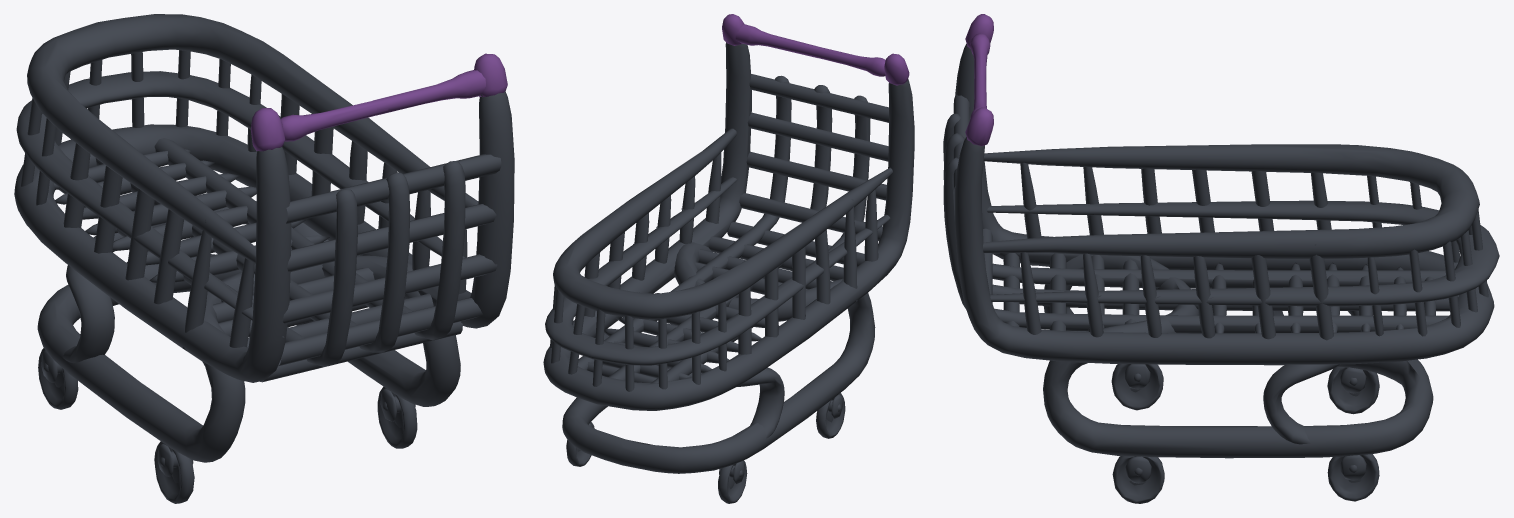
File: Shopping Cart.fbx
The picture shows the model from 3 angles, left to right: view 1: azimuth 30°, elevation 25°; view 2: azimuth 150°, elevation 25°; view 3: azimuth 270°, elevation 25°; orthographic projection. The views are drawn at different scales.
Parts seen in each view (by area): view 1: Shopping Cart; view 2: Shopping Cart; view 3: Shopping Cart.
Boxes of the visible parts, left/top/right/bottom form: Shopping Cart: left=14, top=14, right=514, bottom=503; Shopping Cart: left=543, top=14, right=914, bottom=503; Shopping Cart: left=943, top=14, right=1499, bottom=503.
Size of the model in its own units: 216 by 371 by 475.
